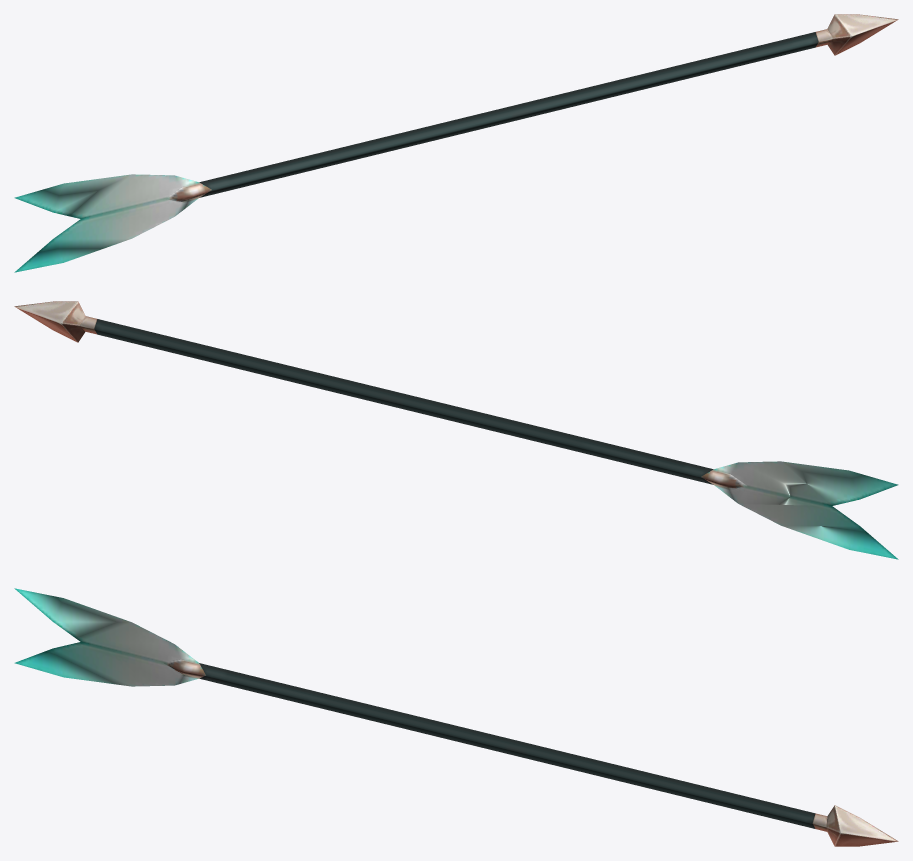
Rendered from Hero_Selene_Cos19Summer_Arrow.fbx.
The picture shows the model from 3 angles, top to bottom: view 1: azimuth 30°, elevation 25°; view 2: azimuth 150°, elevation 25°; view 3: azimuth 330°, elevation 25°; orthographic projection.
Visible parts, largest first — view 1: Hero_Selene_Cos19Summer_Arrow; view 2: Hero_Selene_Cos19Summer_Arrow; view 3: Hero_Selene_Cos19Summer_Arrow.
Boxes of the visible parts, x1,y1,x2,y2 form: Hero_Selene_Cos19Summer_Arrow: [14, 14, 898, 272]; Hero_Selene_Cos19Summer_Arrow: [14, 301, 898, 559]; Hero_Selene_Cos19Summer_Arrow: [14, 588, 898, 846].
Size of the model in its own units: 0.8886 by 0.0761 by 0.0198.
1 material, 1 textured.
